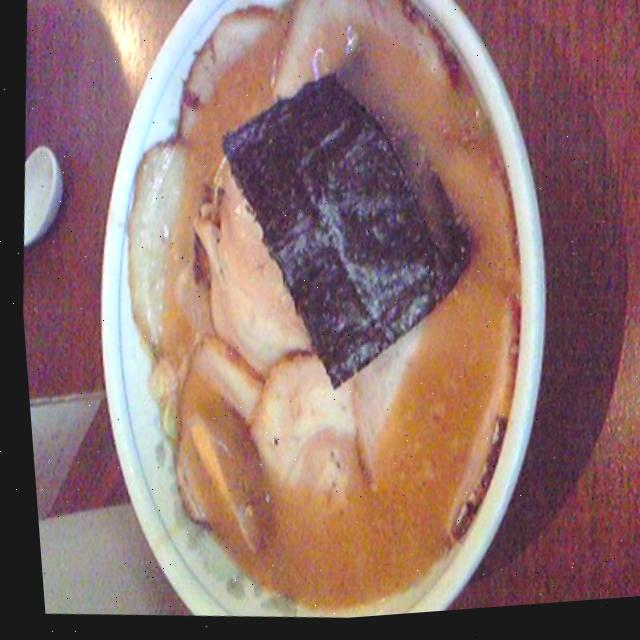面条主食: (62, 0, 545, 636)
